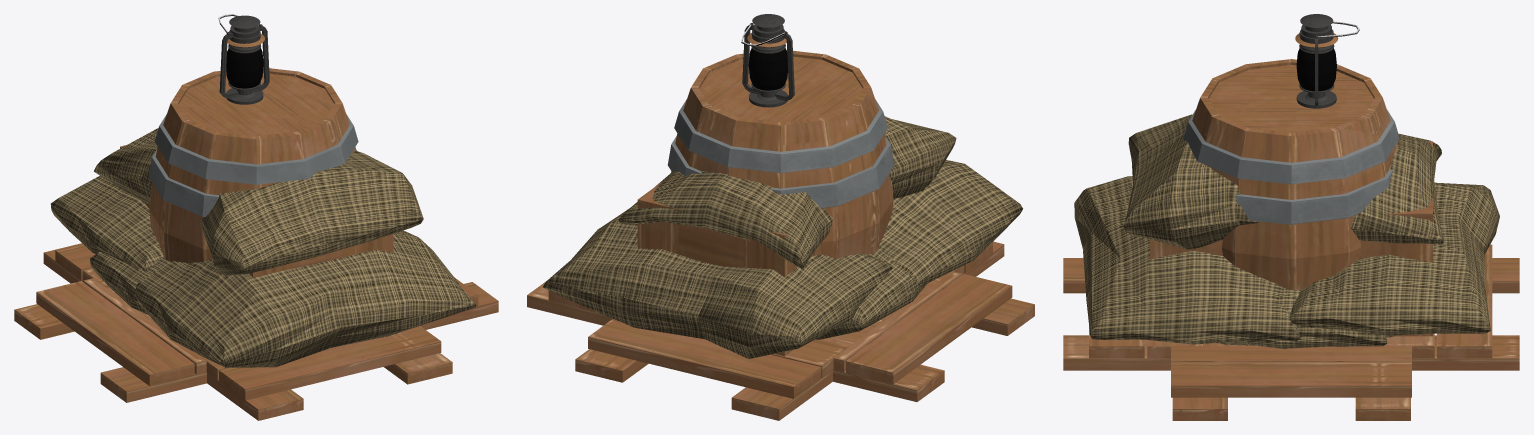
File: pirate-props.glb
The picture shows the model from 3 angles, left to right: view 1: azimuth 30°, elevation 25°; view 2: azimuth 150°, elevation 25°; view 3: azimuth 270°, elevation 25°; orthographic projection. The views are drawn at different scales.
Parts seen in each view (by area): view 1: sacks, barrel_lantern, pallet, barrel, sack, crate_open; view 2: sacks, barrel, pallet, barrel_lantern, crate, sack; view 3: sacks, barrel, pallet, barrel_lantern, sack, crate_open, crate.
Boxes of the visible parts, x1=… form: sacks: x1=43, y1=128, x2=476, y2=420; barrel_lantern: x1=163, y1=14, x2=358, y2=262; pallet: x1=14, y1=277, x2=498, y2=402; barrel: x1=148, y1=68, x2=356, y2=259; sack: x1=90, y1=251, x2=171, y2=314; crate_open: x1=143, y1=202, x2=393, y2=277; sacks: x1=543, y1=116, x2=1022, y2=420; barrel: x1=667, y1=50, x2=894, y2=258; pallet: x1=527, y1=271, x2=1034, y2=401; barrel_lantern: x1=694, y1=14, x2=893, y2=251; crate: x1=637, y1=181, x2=820, y2=356; sack: x1=816, y1=248, x2=927, y2=339; sacks: x1=1063, y1=114, x2=1519, y2=370; barrel: x1=1191, y1=59, x2=1399, y2=290; pallet: x1=1171, y1=343, x2=1411, y2=420; barrel_lantern: x1=1183, y1=14, x2=1384, y2=289; sack: x1=1218, y1=288, x2=1386, y2=349; crate_open: x1=1150, y1=239, x2=1432, y2=336; crate: x1=1150, y1=141, x2=1432, y2=257.
Size of the model in its own units: 1.34 by 0.992 by 1.34.
3 materials, 3 textured.
